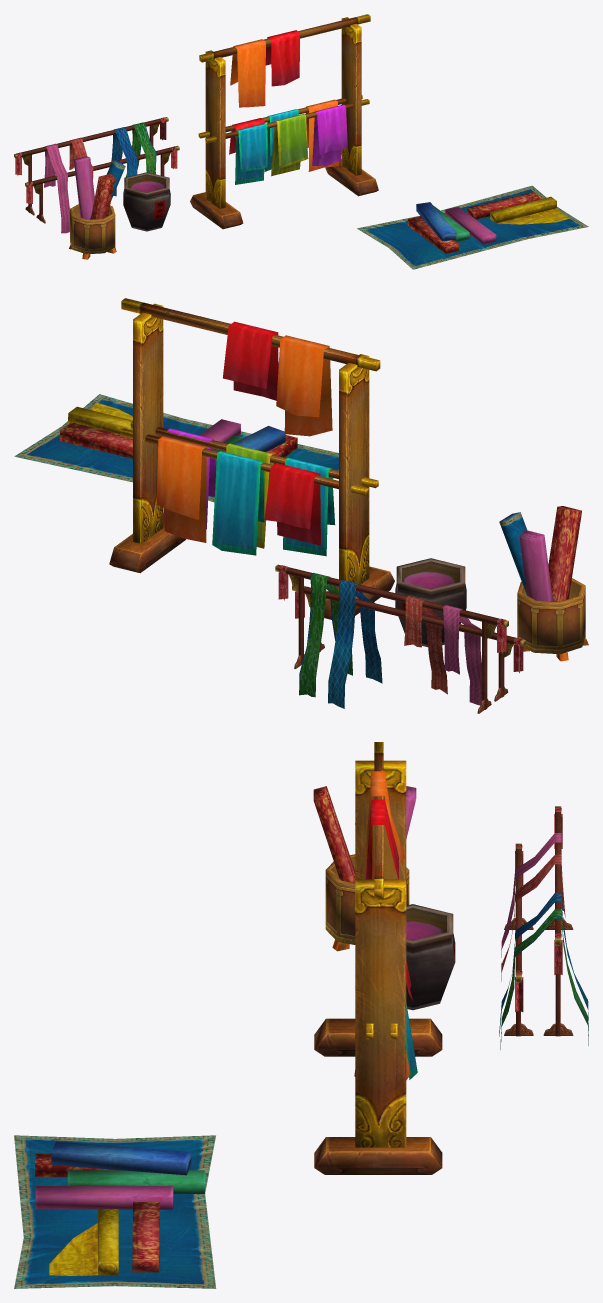
File: bu_pi_tan_001.FBX
3 renders of one model, top to bottom at view 1: azimuth 30°, elevation 25°; view 2: azimuth 150°, elevation 25°; view 3: azimuth 270°, elevation 25°, orthographic. The views are drawn at different scales.
Parts seen in each view (by area): view 1: bu_pi_tan_001_a, xiao_tan_001_c, xiao_tan_001_d, xiao_tan_001_f, ran_gang_001; view 2: bu_pi_tan_001_a, xiao_tan_001_d, xiao_tan_001_c, xiao_tan_001_f, ran_gang_001; view 3: xiao_tan_001_c, bu_pi_tan_001_a, xiao_tan_001_d, xiao_tan_001_f, ran_gang_001.
Boxes of the visible parts, x1,y1,x2,y2 form: bu_pi_tan_001_a: [190, 14, 378, 229]; xiao_tan_001_c: [357, 185, 588, 269]; xiao_tan_001_d: [14, 117, 179, 233]; xiao_tan_001_f: [69, 156, 125, 259]; ran_gang_001: [123, 172, 170, 231]; bu_pi_tan_001_a: [109, 298, 394, 619]; xiao_tan_001_d: [275, 564, 525, 713]; xiao_tan_001_c: [14, 394, 338, 502]; xiao_tan_001_f: [499, 506, 588, 661]; ran_gang_001: [395, 558, 466, 647]; xiao_tan_001_c: [14, 1135, 216, 1288]; bu_pi_tan_001_a: [314, 742, 442, 1174]; xiao_tan_001_d: [499, 806, 588, 1049]; xiao_tan_001_f: [313, 786, 416, 951]; ran_gang_001: [406, 904, 455, 1010].
Bounding box in the file's own units: 771 × 316 × 509.
